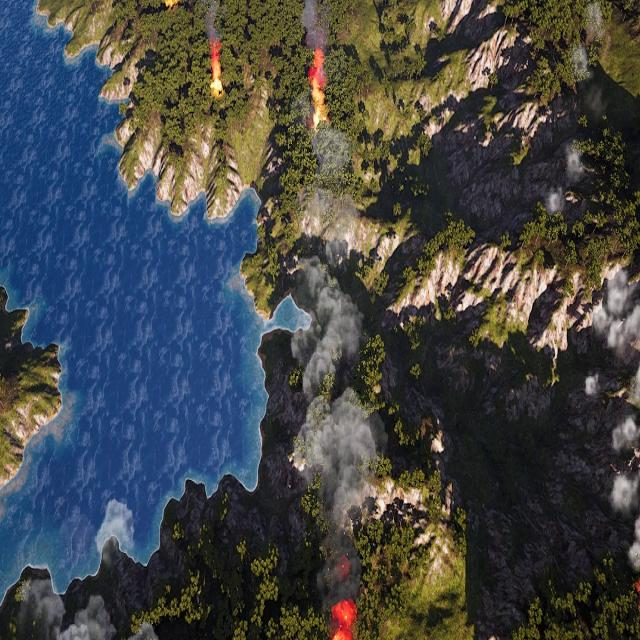fire: (307, 57, 328, 128), (330, 602, 358, 640), (210, 52, 223, 93)
smoke: (608, 405, 640, 572), (593, 261, 640, 351), (545, 144, 591, 222)
